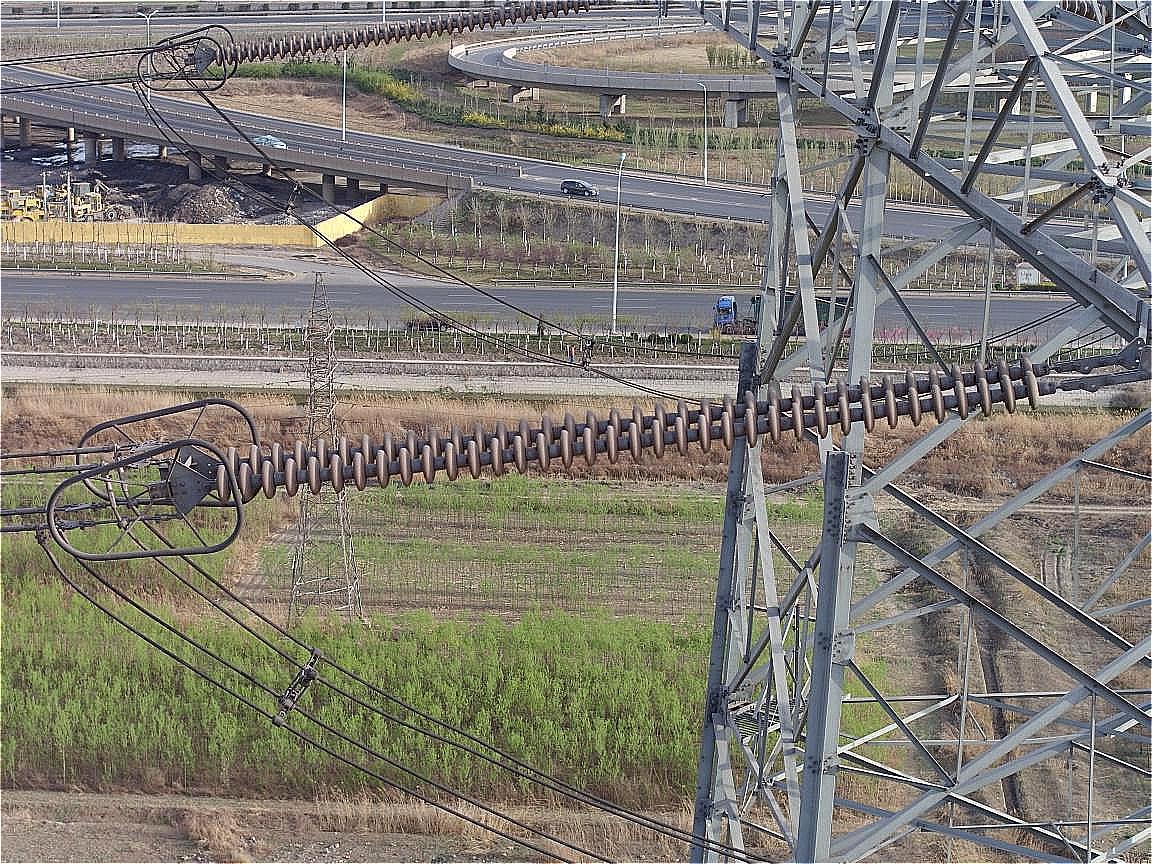insultor1: (216, 356, 1042, 502), (218, 3, 583, 64)
